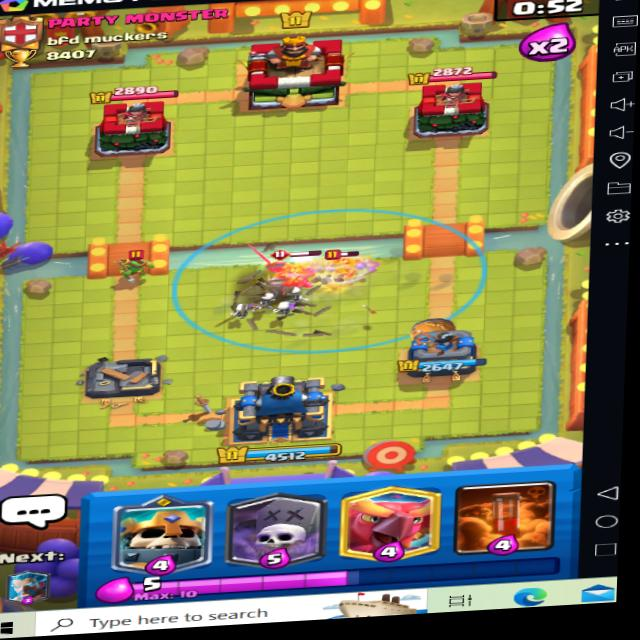evo-knight: (248, 243, 338, 291)
goblin-barrel: (400, 310, 462, 343)
spear-goblin: (108, 243, 160, 296), (329, 246, 370, 280)
